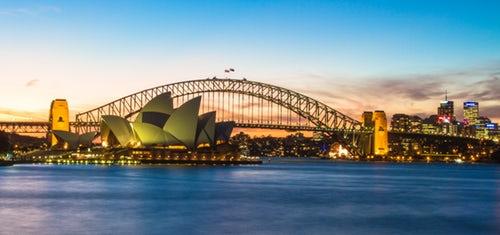opera house: (32, 96, 274, 169)
